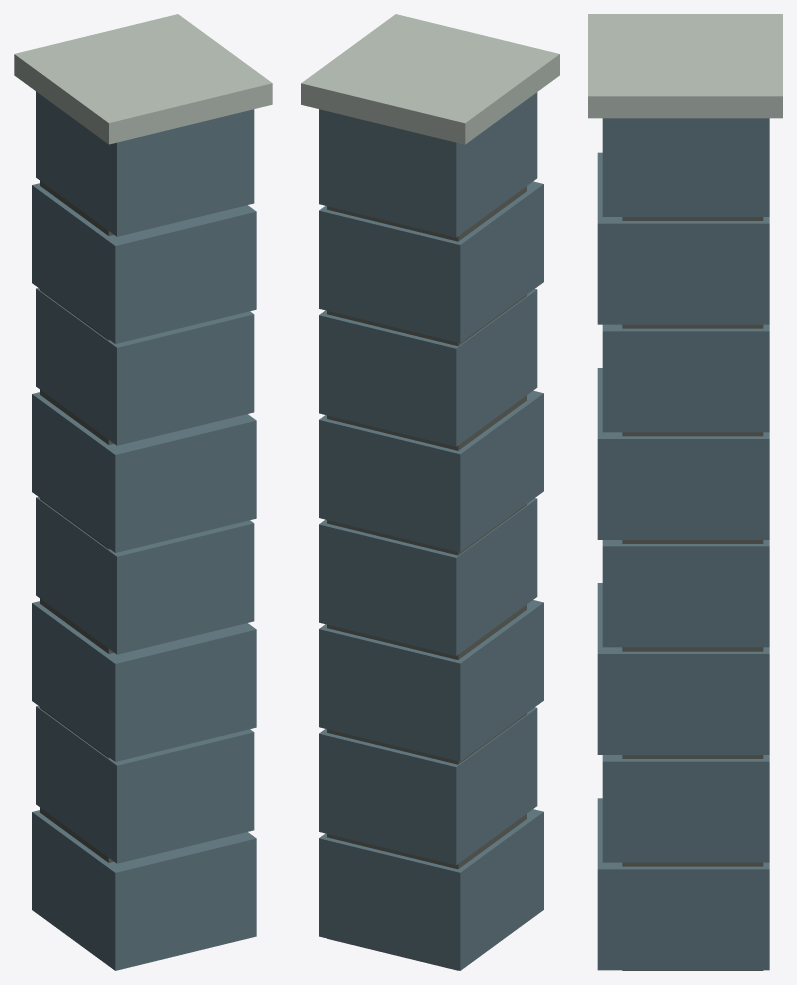
Rendered from retaining_end_4.glb.
3 renders of one model, left to right at view 1: azimuth 30°, elevation 25°; view 2: azimuth 150°, elevation 25°; view 3: azimuth 270°, elevation 25°, orthographic. The views are drawn at different scales.
Parts seen in each view (by area): view 1: RetainingEnd4 / Stone, RetainingEnd4 / Coping, RetainingEnd4 / Rock; view 2: RetainingEnd4 / Stone, RetainingEnd4 / Coping, RetainingEnd4 / Rock; view 3: RetainingEnd4 / Stone, RetainingEnd4 / Coping, RetainingEnd4 / Rock.
Part boxes in pixels (<box>): RetainingEnd4 / Stone: <box>32,91,256,970</box>; RetainingEnd4 / Coping: <box>14,14,272,144</box>; RetainingEnd4 / Rock: <box>40,181,113,862</box>; RetainingEnd4 / Stone: <box>319,92,543,970</box>; RetainingEnd4 / Coping: <box>301,14,559,144</box>; RetainingEnd4 / Rock: <box>327,186,526,970</box>; RetainingEnd4 / Stone: <box>597,118,769,970</box>; RetainingEnd4 / Coping: <box>588,14,782,118</box>; RetainingEnd4 / Rock: <box>622,217,763,970</box>.
Bounding box in the file's own units: 0.8 × 4 × 0.8.
